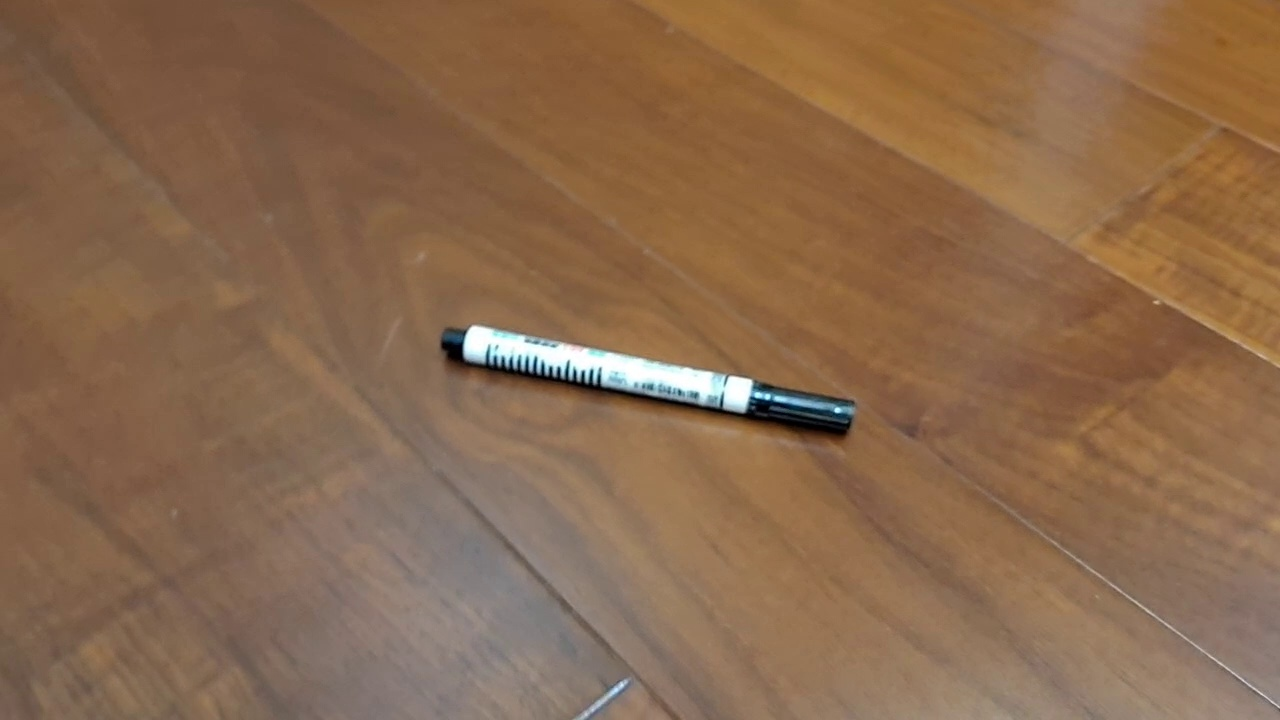pen: (440, 323, 857, 437)
